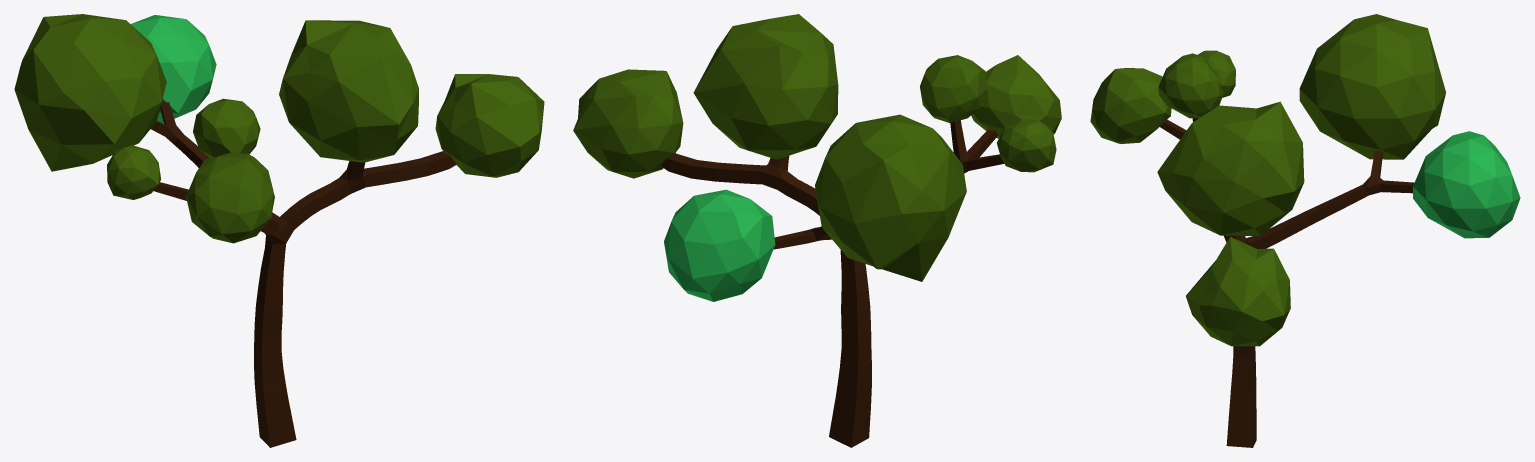
File: tree.obj
3 renders of one model, left to right at view 1: azimuth 30°, elevation 25°; view 2: azimuth 150°, elevation 25°; view 3: azimuth 270°, elevation 25°, orthographic. The views are drawn at different scales.
Visible parts, largest first — view 1: Icosphere.001_Material.003, Icosphere.005_Material.007, Plane_Material.002, Icosphere.006_Material.008, Icosphere.004_Material.006, Icosphere_Material.001, Icosphere.002_Material.004, Icosphere.003_Material.005; view 2: Icosphere.001_Material.003, Icosphere.005_Material.007, Plane_Material.002, Icosphere_Material.001, Icosphere.006_Material.008, Icosphere.004_Material.006, Icosphere.002_Material.004, Icosphere.003_Material.005; view 3: Icosphere.001_Material.003, Icosphere.005_Material.007, Icosphere_Material.001, Icosphere.006_Material.008, Plane_Material.002, Icosphere.004_Material.006, Icosphere.002_Material.004, Icosphere.003_Material.005.
Part boxes in pixels (x1=…): Icosphere.001_Material.003: x1=14, y1=14, x2=166, y2=171; Icosphere.005_Material.007: x1=279, y1=20, x2=418, y2=162; Plane_Material.002: x1=151, y1=101, x2=456, y2=447; Icosphere.006_Material.008: x1=435, y1=74, x2=544, y2=177; Icosphere.004_Material.006: x1=186, y1=152, x2=274, y2=243; Icosphere_Material.001: x1=131, y1=15, x2=216, y2=123; Icosphere.002_Material.004: x1=193, y1=98, x2=260, y2=157; Icosphere.003_Material.005: x1=107, y1=145, x2=160, y2=199; Icosphere.001_Material.003: x1=815, y1=114, x2=966, y2=281; Icosphere.005_Material.007: x1=693, y1=14, x2=838, y2=159; Plane_Material.002: x1=660, y1=120, x2=1004, y2=447; Icosphere_Material.001: x1=664, y1=189, x2=775, y2=301; Icosphere.006_Material.008: x1=573, y1=69, x2=683, y2=178; Icosphere.004_Material.006: x1=971, y1=55, x2=1061, y2=138; Icosphere.002_Material.004: x1=920, y1=55, x2=987, y2=122; Icosphere.003_Material.005: x1=997, y1=119, x2=1056, y2=172; Icosphere.001_Material.003: x1=1299, y1=14, x2=1445, y2=159; Icosphere.005_Material.007: x1=1157, y1=101, x2=1304, y2=235; Icosphere_Material.001: x1=1413, y1=131, x2=1520, y2=238; Icosphere.006_Material.008: x1=1186, y1=236, x2=1290, y2=346; Plane_Material.002: x1=1160, y1=118, x2=1414, y2=447; Icosphere.004_Material.006: x1=1090, y1=68, x2=1171, y2=143; Icosphere.002_Material.004: x1=1158, y1=53, x2=1223, y2=118; Icosphere.003_Material.005: x1=1198, y1=50, x2=1235, y2=97.
Size of the model in its own units: 9.13 by 7.67 by 8.1.
